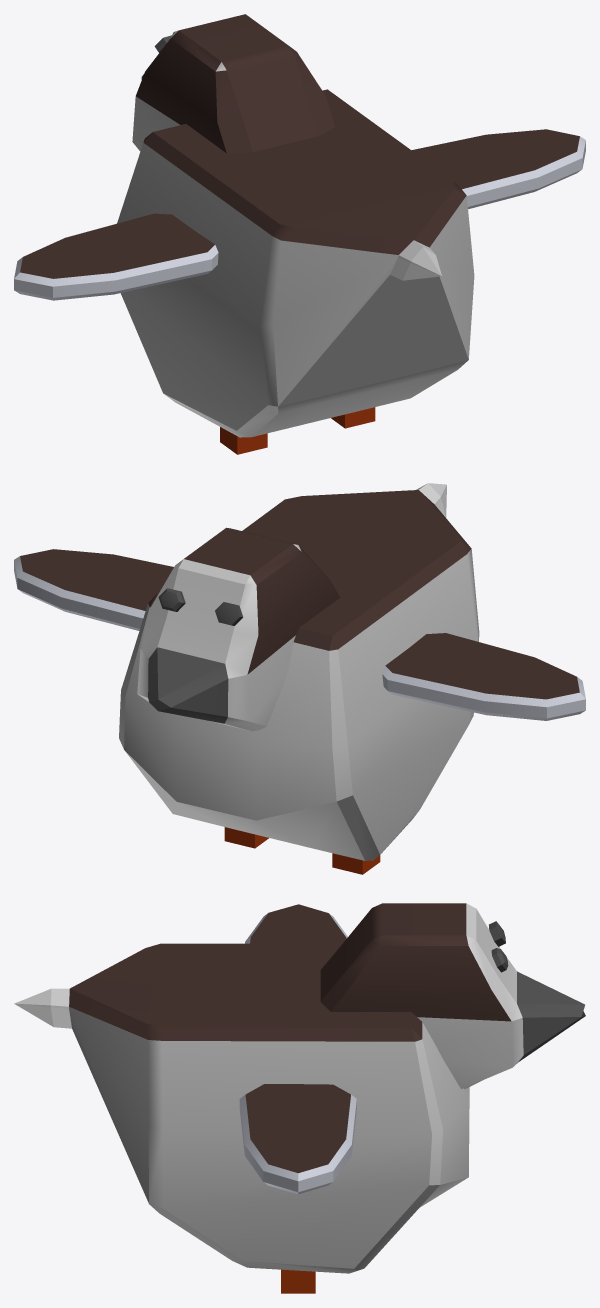
Rendered from Birdo.fbx.
3 renders of one model, top to bottom at view 1: azimuth 30°, elevation 25°; view 2: azimuth 150°, elevation 25°; view 3: azimuth 270°, elevation 25°, orthographic.
Visible parts, largest first — view 1: polySurface20, polySurface17, polySurface23, polySurface16, polySurface22, polySurface21; view 2: polySurface20, polySurface17, polySurface23, polySurface16, polySurface22, polySurface21, polySurface18; view 3: polySurface20, polySurface17, polySurface16, polySurface23, polySurface21.
Part boxes in pixels (x1,y1,x2,y2): polySurface20: (117,89,474,437); polySurface17: (132,14,334,153); polySurface23: (14,213,218,300); polySurface16: (411,129,585,209); polySurface22: (220,427,267,454); polySurface21: (331,407,375,428); polySurface20: (119,483,479,860); polySurface17: (137,527,339,731); polySurface23: (382,633,585,720); polySurface16: (14,549,173,630); polySurface22: (332,853,380,874); polySurface21: (224,827,268,848); polySurface18: (215,602,243,625); polySurface20: (14,943,469,1273); polySurface17: (320,903,585,1088); polySurface16: (239,1084,356,1194); polySurface23: (245,904,347,943); polySurface21: (281,1269,315,1293).
Bounding box in the file's own units: 0.0107 × 0.00622 × 0.00945.
